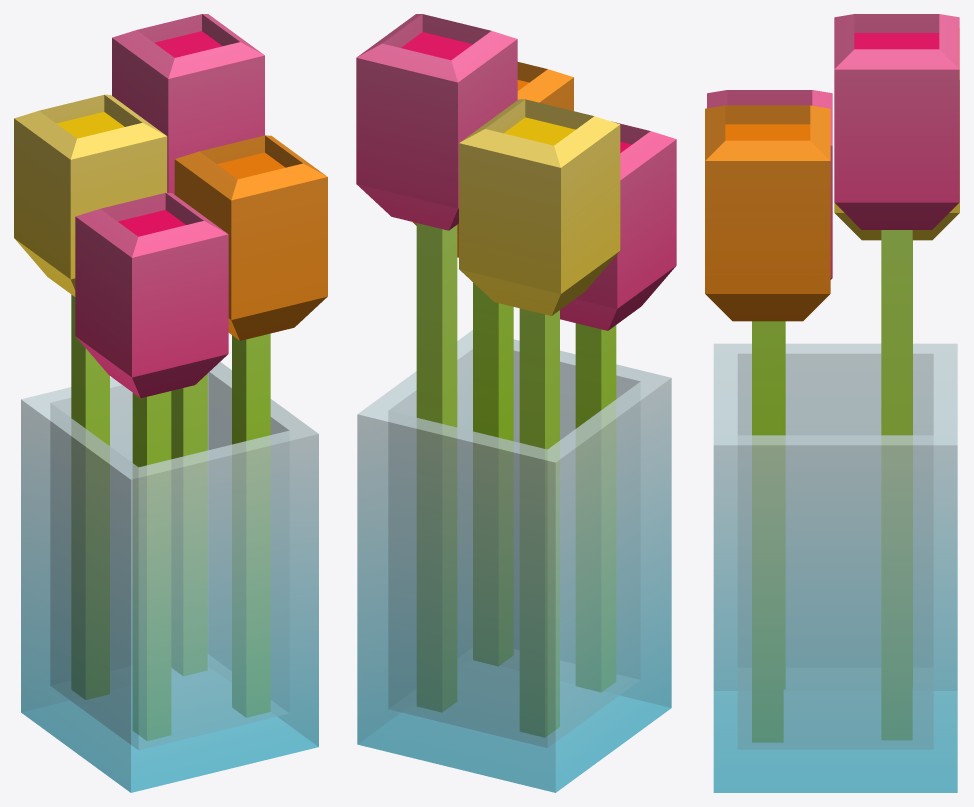
The model's file is Tulip_GlassVase_default.fbx.
3 views of the same model, side by side, from view 1: azimuth 30°, elevation 25°; view 2: azimuth 150°, elevation 25°; view 3: azimuth 270°, elevation 25° (orthographic). The views are drawn at different scales.
Parts seen in each view (by area): view 1: Tulip_GlassVase.default; view 2: Tulip_GlassVase.default; view 3: Tulip_GlassVase.default.
Boxes of the visible parts, x1,y1,x2,y2 form: Tulip_GlassVase.default: (14,14,327,792); Tulip_GlassVase.default: (356,14,676,792); Tulip_GlassVase.default: (705,14,959,792).
Size of the model in its own units: 23.5 by 74.78 by 23.48.
